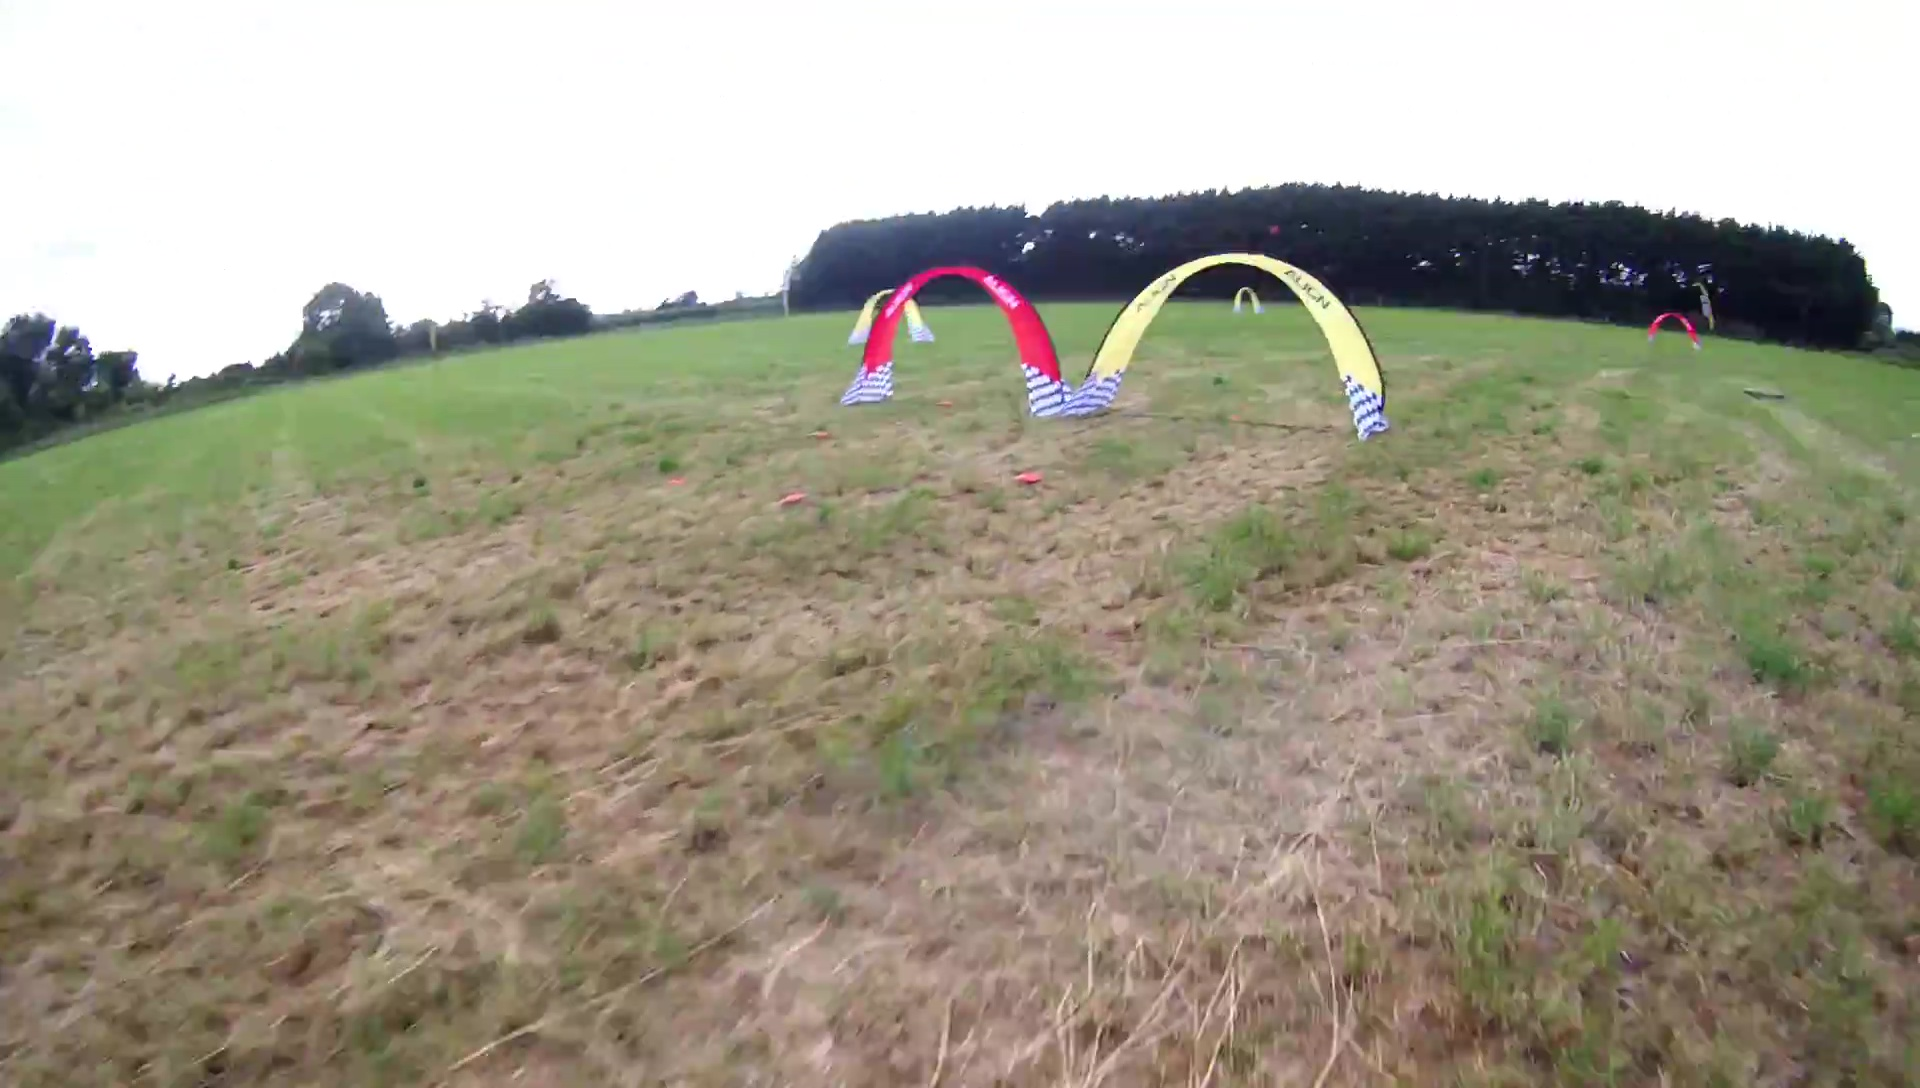gate: (1069, 251, 1389, 438), (844, 264, 1075, 417), (849, 287, 938, 343), (1646, 310, 1702, 353), (1232, 285, 1265, 315)
